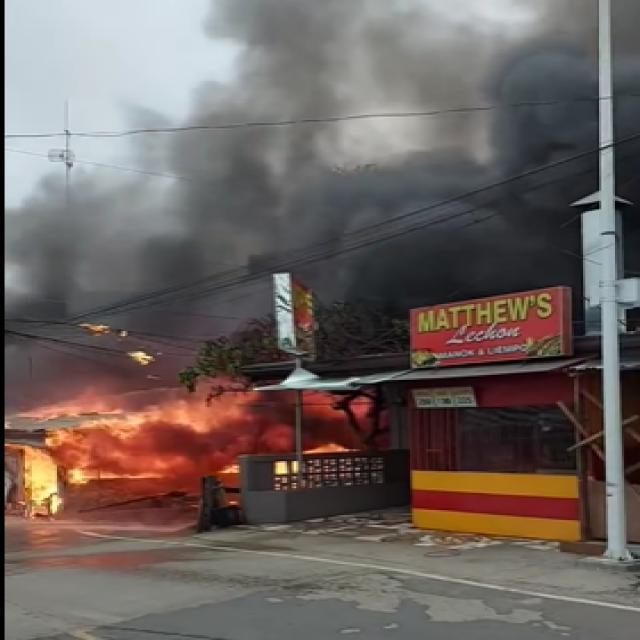Fire: (0, 382, 370, 474)
Smoke: (209, 21, 619, 272), (6, 168, 224, 392)
